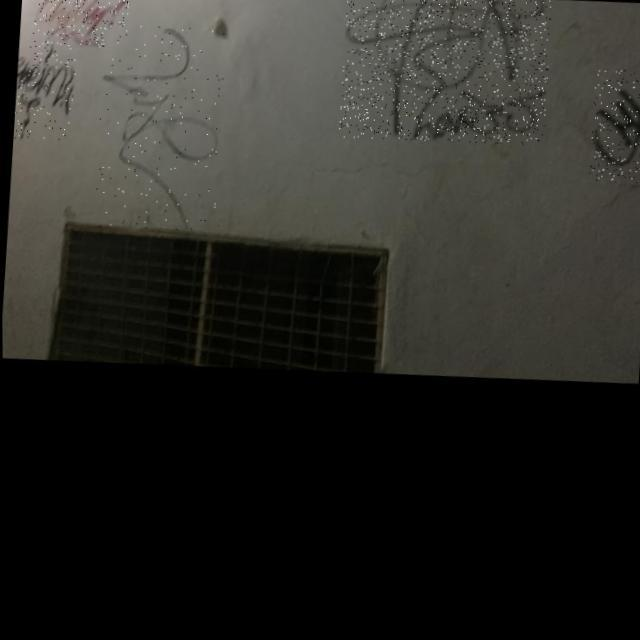-: (337, 0, 553, 153), (91, 22, 227, 236), (12, 44, 77, 142), (587, 70, 640, 188), (30, 0, 128, 51)
